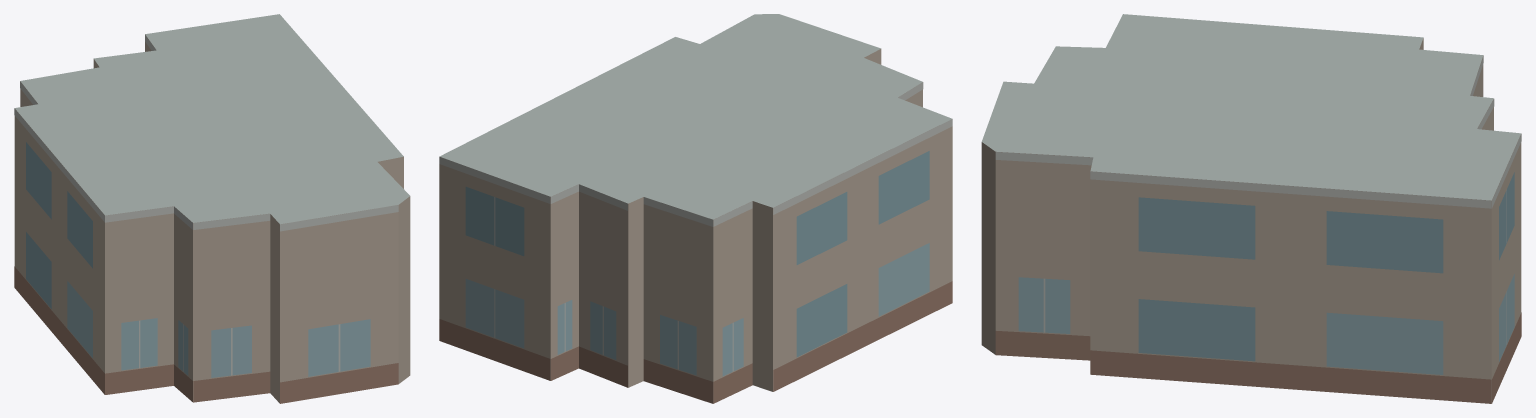
Rendered from survey-upis-32623881.glb.
The picture shows the model from 3 angles, left to right: view 1: azimuth 30°, elevation 25°; view 2: azimuth 150°, elevation 25°; view 3: azimuth 270°, elevation 25°; orthographic projection. The views are drawn at different scales.
Parts seen in each view (by area): view 1: survey-upis-32623881.tmp; view 2: survey-upis-32623881.tmp; view 3: survey-upis-32623881.tmp.
Boxes of the visible parts, bbox=[...] form: survey-upis-32623881.tmp: bbox=[14, 14, 410, 403]; survey-upis-32623881.tmp: bbox=[439, 14, 952, 403]; survey-upis-32623881.tmp: bbox=[981, 14, 1521, 403].
Bounding box in the file's own units: 12.01 × 6.1 × 14.69.
